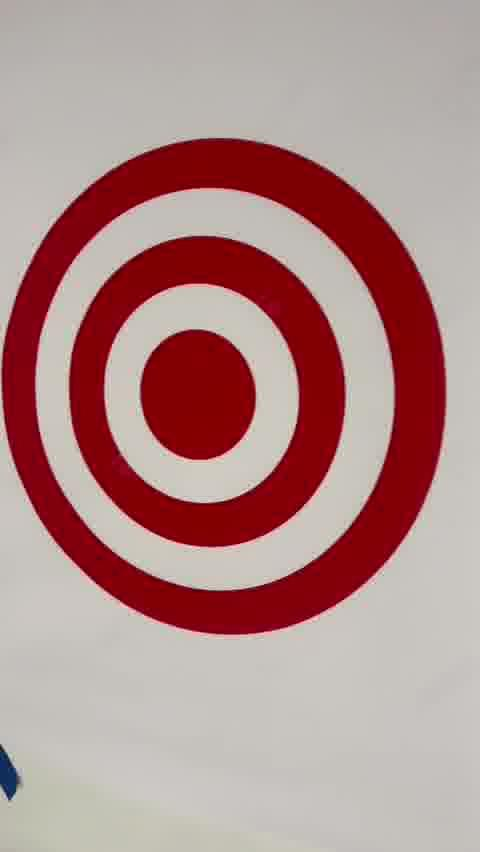target_red: (0, 138, 450, 636)
